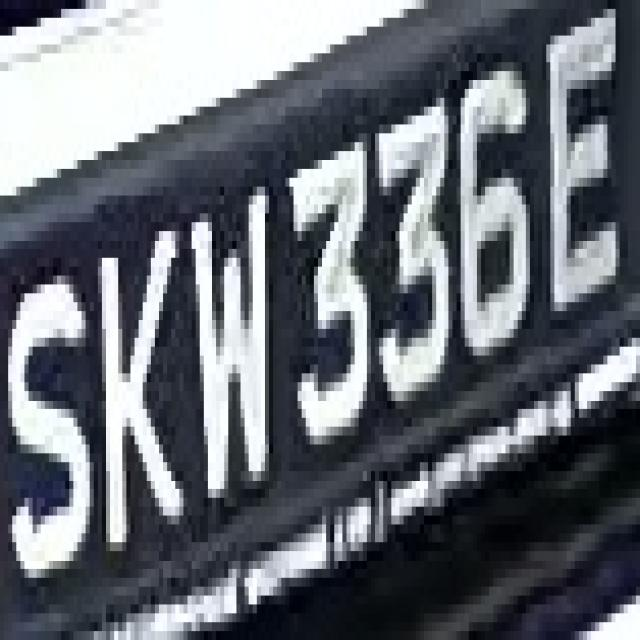3: (363, 80, 452, 427), (285, 125, 371, 462)
6: (448, 27, 538, 373)
E: (538, 27, 624, 329)
K: (82, 169, 180, 560)
S: (12, 213, 98, 604)
W: (180, 160, 282, 507)
